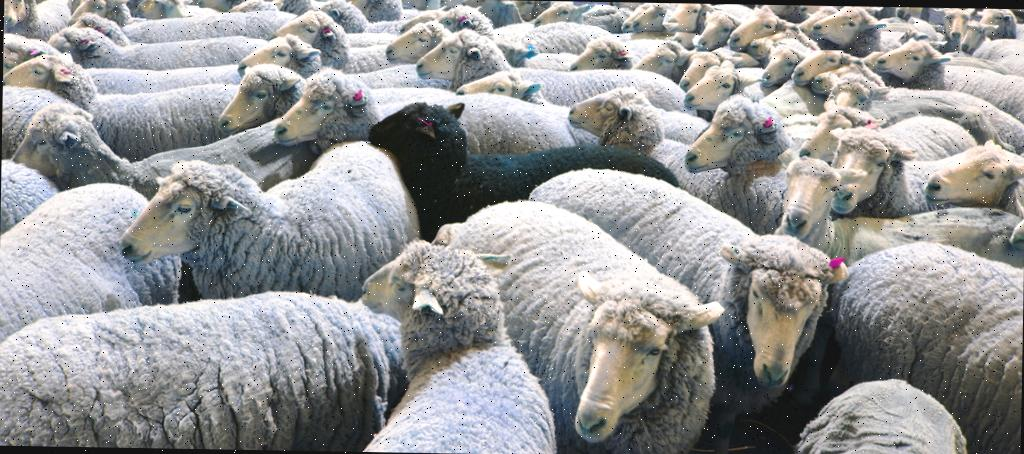Sheep: (526, 167, 822, 412), (442, 192, 713, 454), (0, 281, 407, 452), (123, 143, 410, 302), (825, 228, 1024, 454), (356, 232, 558, 454), (366, 90, 688, 224), (0, 180, 187, 363), (552, 80, 784, 178), (2, 52, 242, 142), (10, 102, 218, 194), (209, 58, 374, 156), (688, 86, 826, 182), (232, 29, 438, 93), (819, 128, 938, 217), (874, 28, 1024, 96), (44, 28, 255, 72), (412, 23, 551, 89), (276, 10, 414, 75), (926, 145, 1024, 231), (382, 14, 490, 78), (684, 60, 786, 116), (809, 8, 933, 51), (565, 31, 645, 82), (790, 42, 873, 89), (721, 5, 799, 54)
